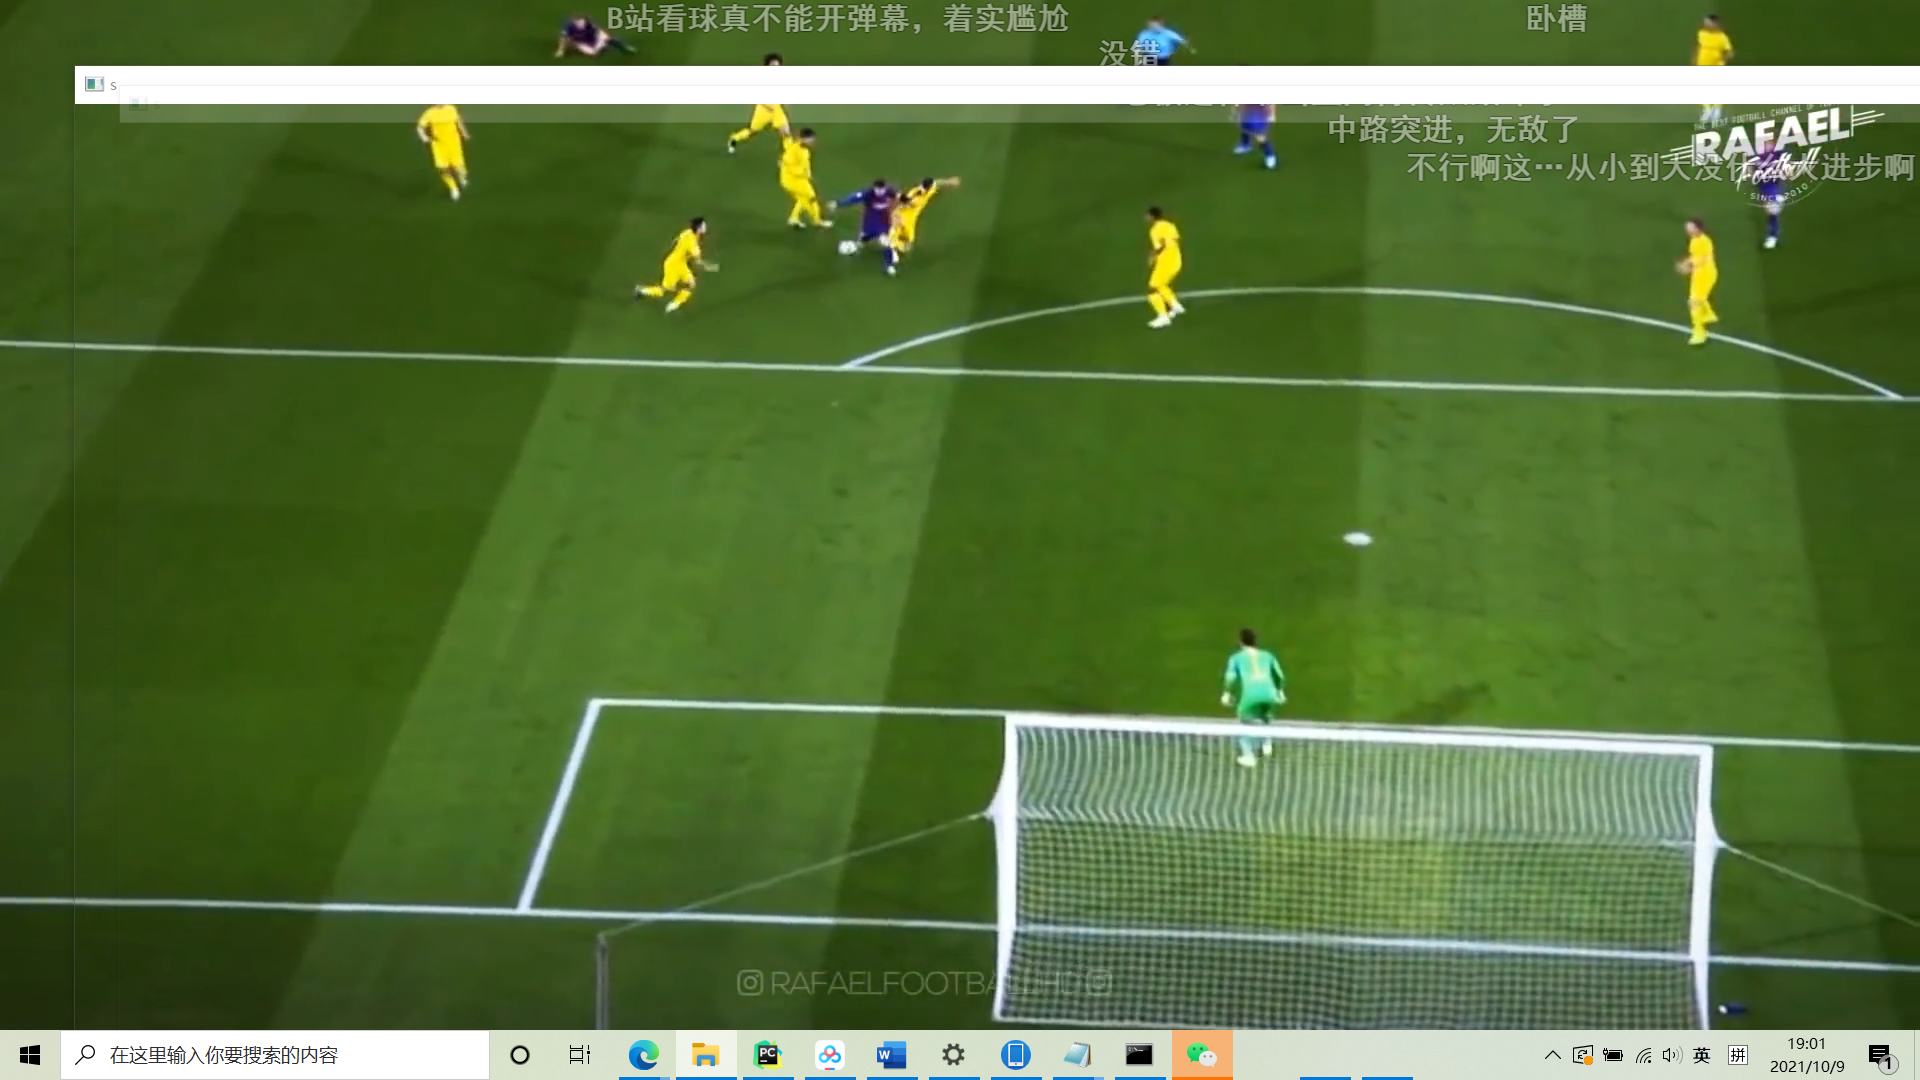ft: (833, 233, 862, 262)
